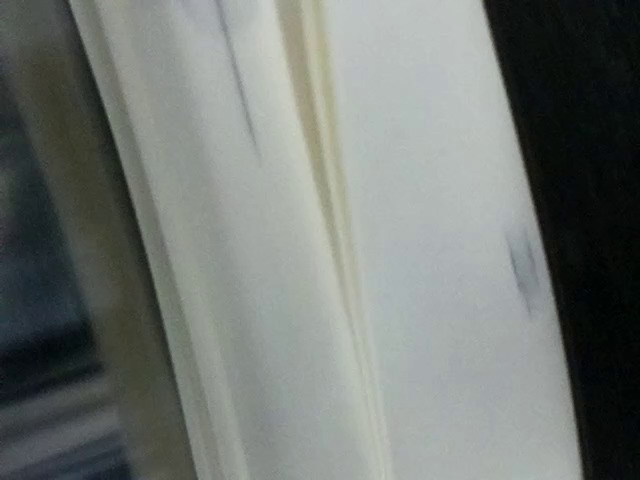not_sure: (174, 1, 260, 35)
